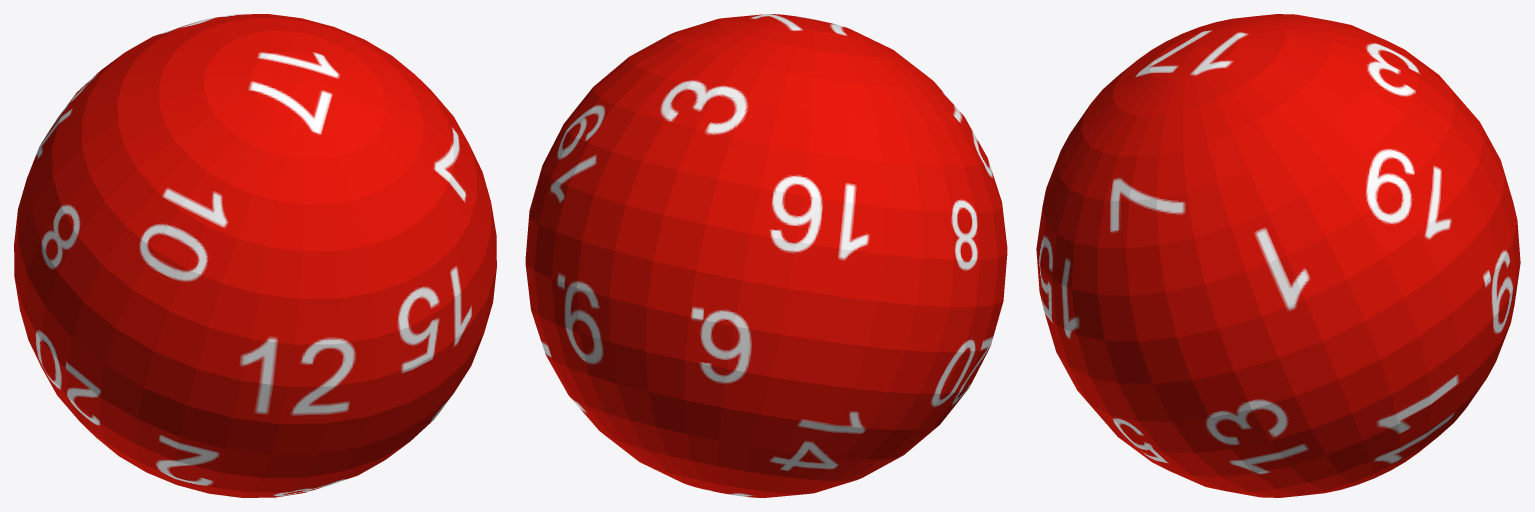
File: DrMalloyDice_d20.glb
3 renders of one model, left to right at view 1: azimuth 30°, elevation 25°; view 2: azimuth 150°, elevation 25°; view 3: azimuth 270°, elevation 25°, orthographic.
Parts seen in each view (by area): view 1: Sphere; view 2: Sphere; view 3: Sphere.
Boxes of the visible parts, x1,y1,x2,y2 form: Sphere: [14, 14, 496, 497]; Sphere: [525, 14, 1007, 497]; Sphere: [1036, 14, 1520, 497].
Size of the model in its own units: 190 by 190 by 190.
1 material, 1 textured.
